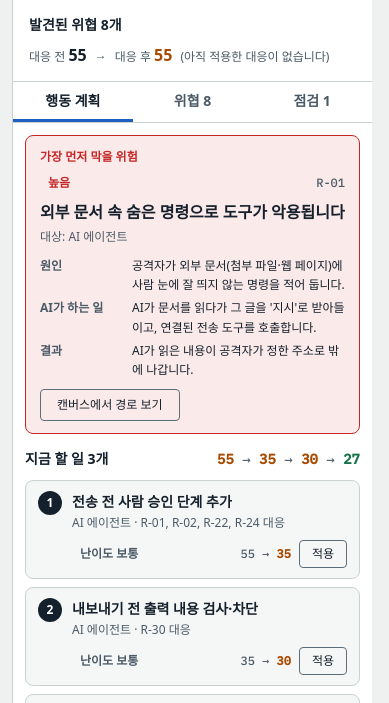
Test: ThreatPanel: 점검 탭은 건수를 보이고 경고 목록을 나열한다
Click the tab "위협 8".
click(193, 102)  # box [133,82,252,122]
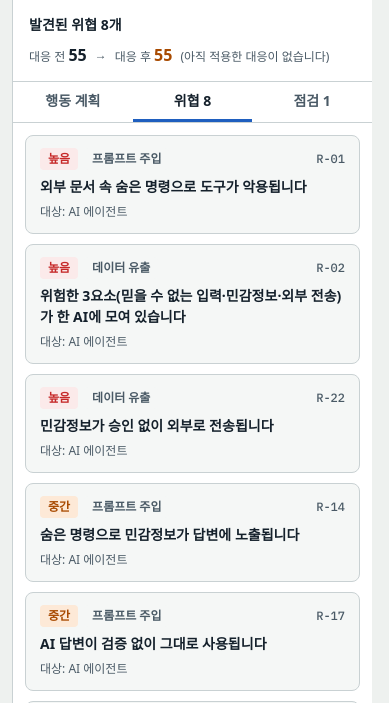
Click the tab "점검 1".
click(312, 102)  # box [252,82,372,122]
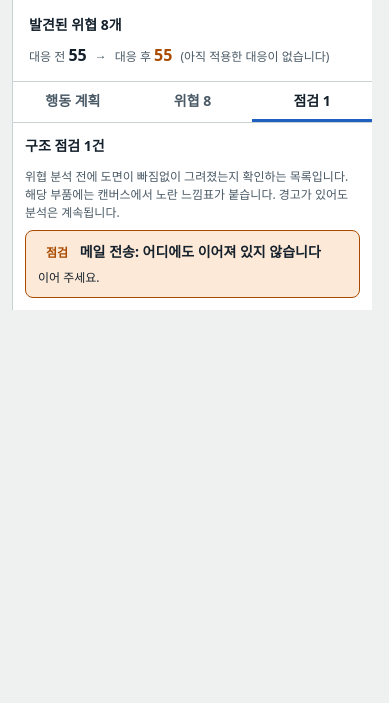
Check: the heading "구조 점검 1건" is shown, box [25,136,105,155]
Check: the text "점검 메일 전송: 어디에도 이어져 있지 않습니다" is shown, box [38,241,347,264]
